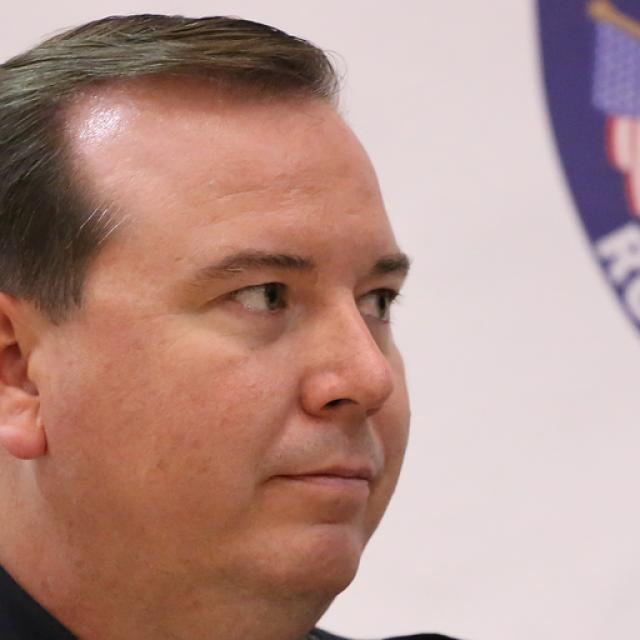neutral: (46, 79, 414, 598)
